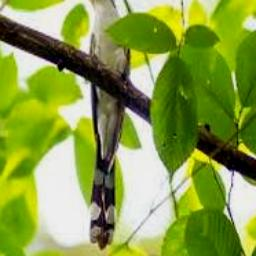Cuckoo: (70, 0, 129, 248)
